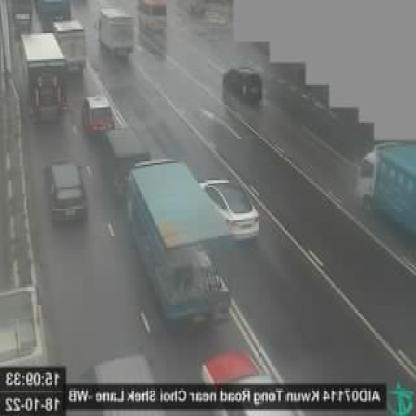Car: (193, 176, 261, 243), (44, 162, 91, 232), (221, 66, 262, 105), (82, 96, 115, 138)
Minibus: (136, 0, 169, 31)
Truck: (124, 158, 236, 328), (355, 142, 416, 255), (20, 32, 67, 126), (95, 7, 134, 62), (52, 21, 87, 77)
